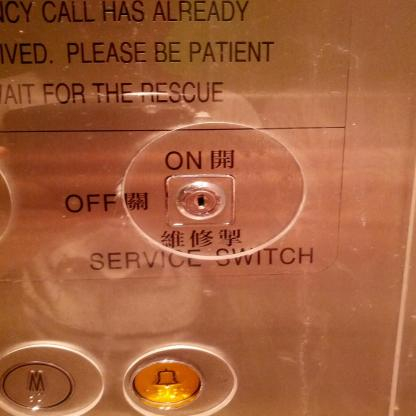M: (0, 360, 75, 410)
alarm: (127, 356, 205, 407)
bt_keyhole: (162, 168, 236, 232)
